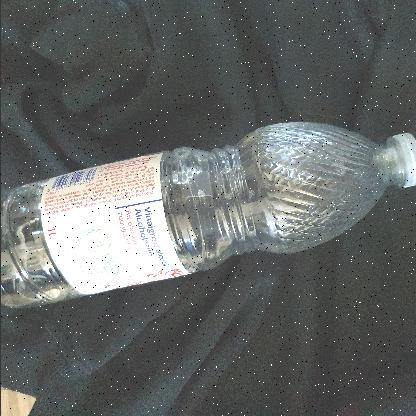Plastic Bottle: (2, 111, 416, 329)
